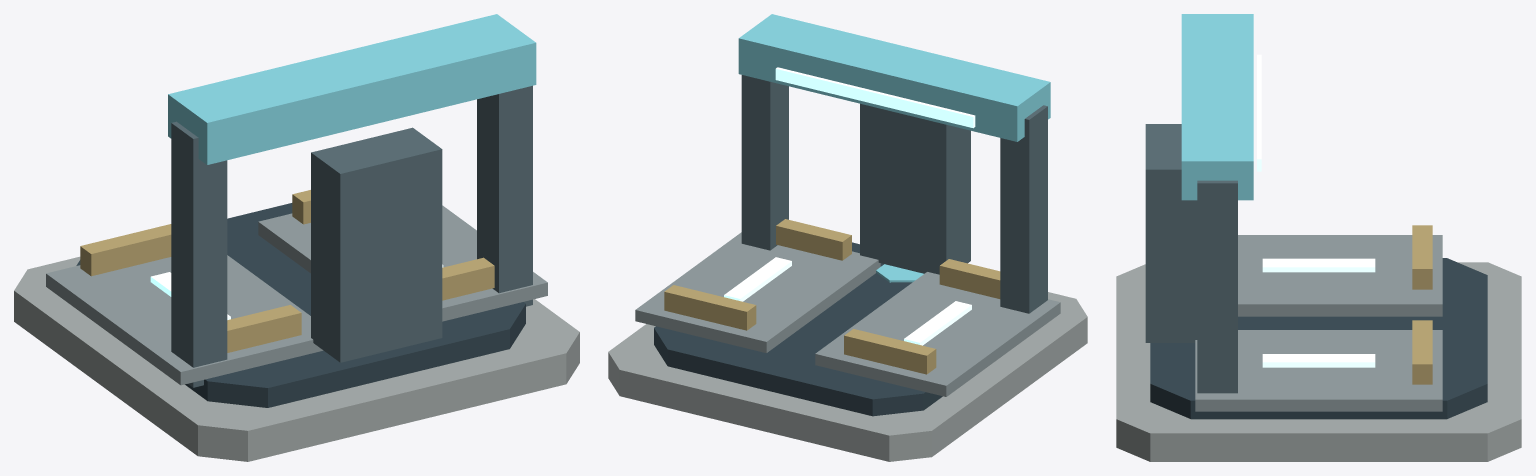
File: dock-low.glb
3 renders of one model, left to right at view 1: azimuth 30°, elevation 25°; view 2: azimuth 150°, elevation 25°; view 3: azimuth 270°, elevation 25°, orthographic. The views are drawn at different scales.
Parts seen in each view (by area): view 1: asset_dock__FP_Baked, asset_dock__FP_Team; view 2: asset_dock__FP_Baked, asset_dock__FP_Team, asset_dock__FP_Signal, Hexagon; view 3: asset_dock__FP_Baked, asset_dock__FP_Team, asset_dock__FP_Signal.
Part boxes in pixels (<box>): asset_dock__FP_Baked: <box>14,85,579,461</box>; asset_dock__FP_Team: <box>168,14,536,164</box>; asset_dock__FP_Baked: <box>608,75,1087,461</box>; asset_dock__FP_Team: <box>738,14,1050,141</box>; asset_dock__FP_Signal: <box>724,67,975,345</box>; Hexagon: <box>876,264,923,282</box>; asset_dock__FP_Baked: <box>1116,124,1521,461</box>; asset_dock__FP_Team: <box>1181,14,1253,200</box>; asset_dock__FP_Signal: <box>1257,54,1375,367</box>.
Size of the model in its own units: 1.8 by 1.42 by 1.8.
